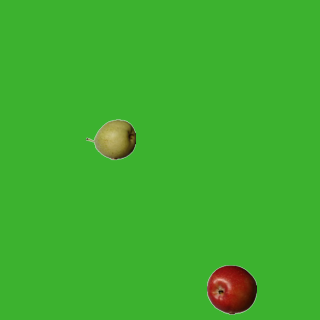Apple Braeburn: (206, 264, 256, 314)
Pear: (85, 114, 135, 164)
